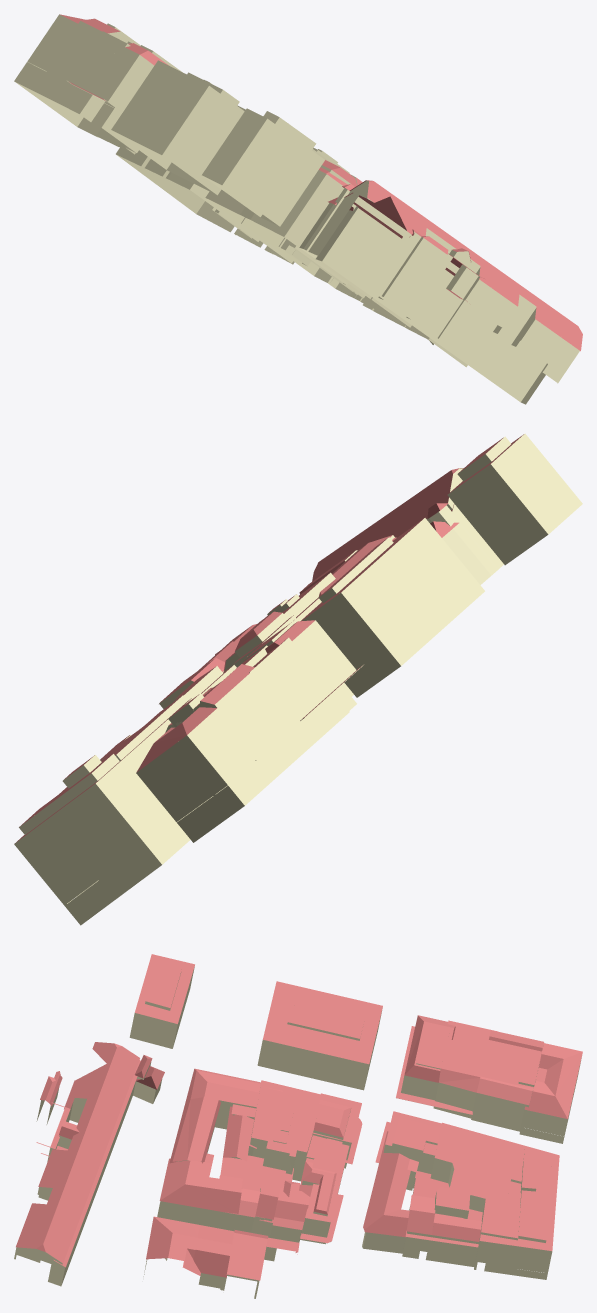
File: tile_048.glb
3 views of the same model, one above another, from view 1: azimuth 30°, elevation 25°; view 2: azimuth 150°, elevation 25°; view 3: azimuth 270°, elevation 25° (orthographic). The views are drawn at different scales.
Visible parts, largest first — view 1: Batched_Building_ID_171843D0-9B00-450B-8F0A-145CF62C2A75, Batched_Building_ID_17D7D045-177F-45C7-A267-0DC9980AA7F6; view 2: Batched_Building_ID_171843D0-9B00-450B-8F0A-145CF62C2A75, Batched_Building_ID_17D7D045-177F-45C7-A267-0DC9980AA7F6; view 3: Batched_Building_ID_17D7D045-177F-45C7-A267-0DC9980AA7F6, Batched_Building_ID_171843D0-9B00-450B-8F0A-145CF62C2A75.
Part boxes in pixels (x1,y1,x2,y2): Batched_Building_ID_171843D0-9B00-450B-8F0A-145CF62C2A75: [14, 14, 579, 404]; Batched_Building_ID_17D7D045-177F-45C7-A267-0DC9980AA7F6: [60, 14, 582, 351]; Batched_Building_ID_171843D0-9B00-450B-8F0A-145CF62C2A75: [14, 433, 582, 925]; Batched_Building_ID_17D7D045-177F-45C7-A267-0DC9980AA7F6: [14, 434, 523, 843]; Batched_Building_ID_17D7D045-177F-45C7-A267-0DC9980AA7F6: [16, 954, 582, 1280]; Batched_Building_ID_171843D0-9B00-450B-8F0A-145CF62C2A75: [14, 967, 581, 1298].
Size of the model in its own units: 108 by 101 by 202.
